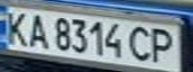1: (84, 19, 106, 56)
3: (66, 16, 90, 54)
4: (103, 20, 127, 58)
8: (48, 15, 72, 52)
A: (24, 11, 51, 50)
C: (124, 24, 157, 62)
K: (0, 8, 33, 46)
P: (145, 25, 184, 64)
